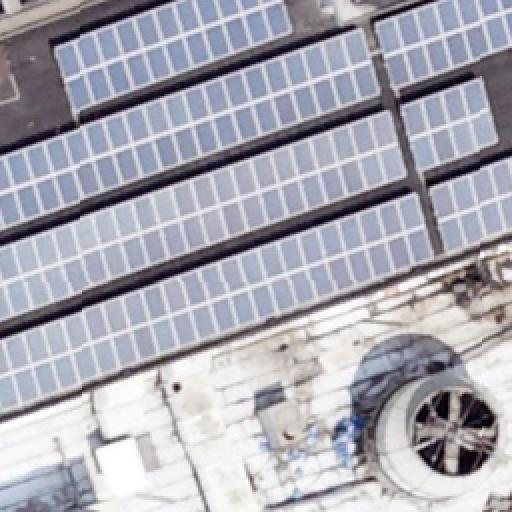solar-panel: (0, 192, 436, 416), (0, 110, 410, 322), (1, 28, 383, 232), (53, 0, 291, 112), (376, 0, 512, 92), (403, 75, 501, 173), (428, 159, 512, 257)
